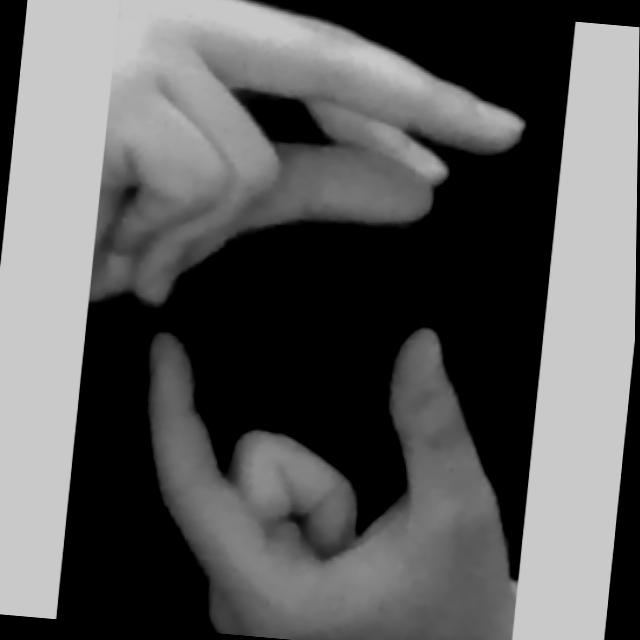U--: (117, 33, 565, 640)
